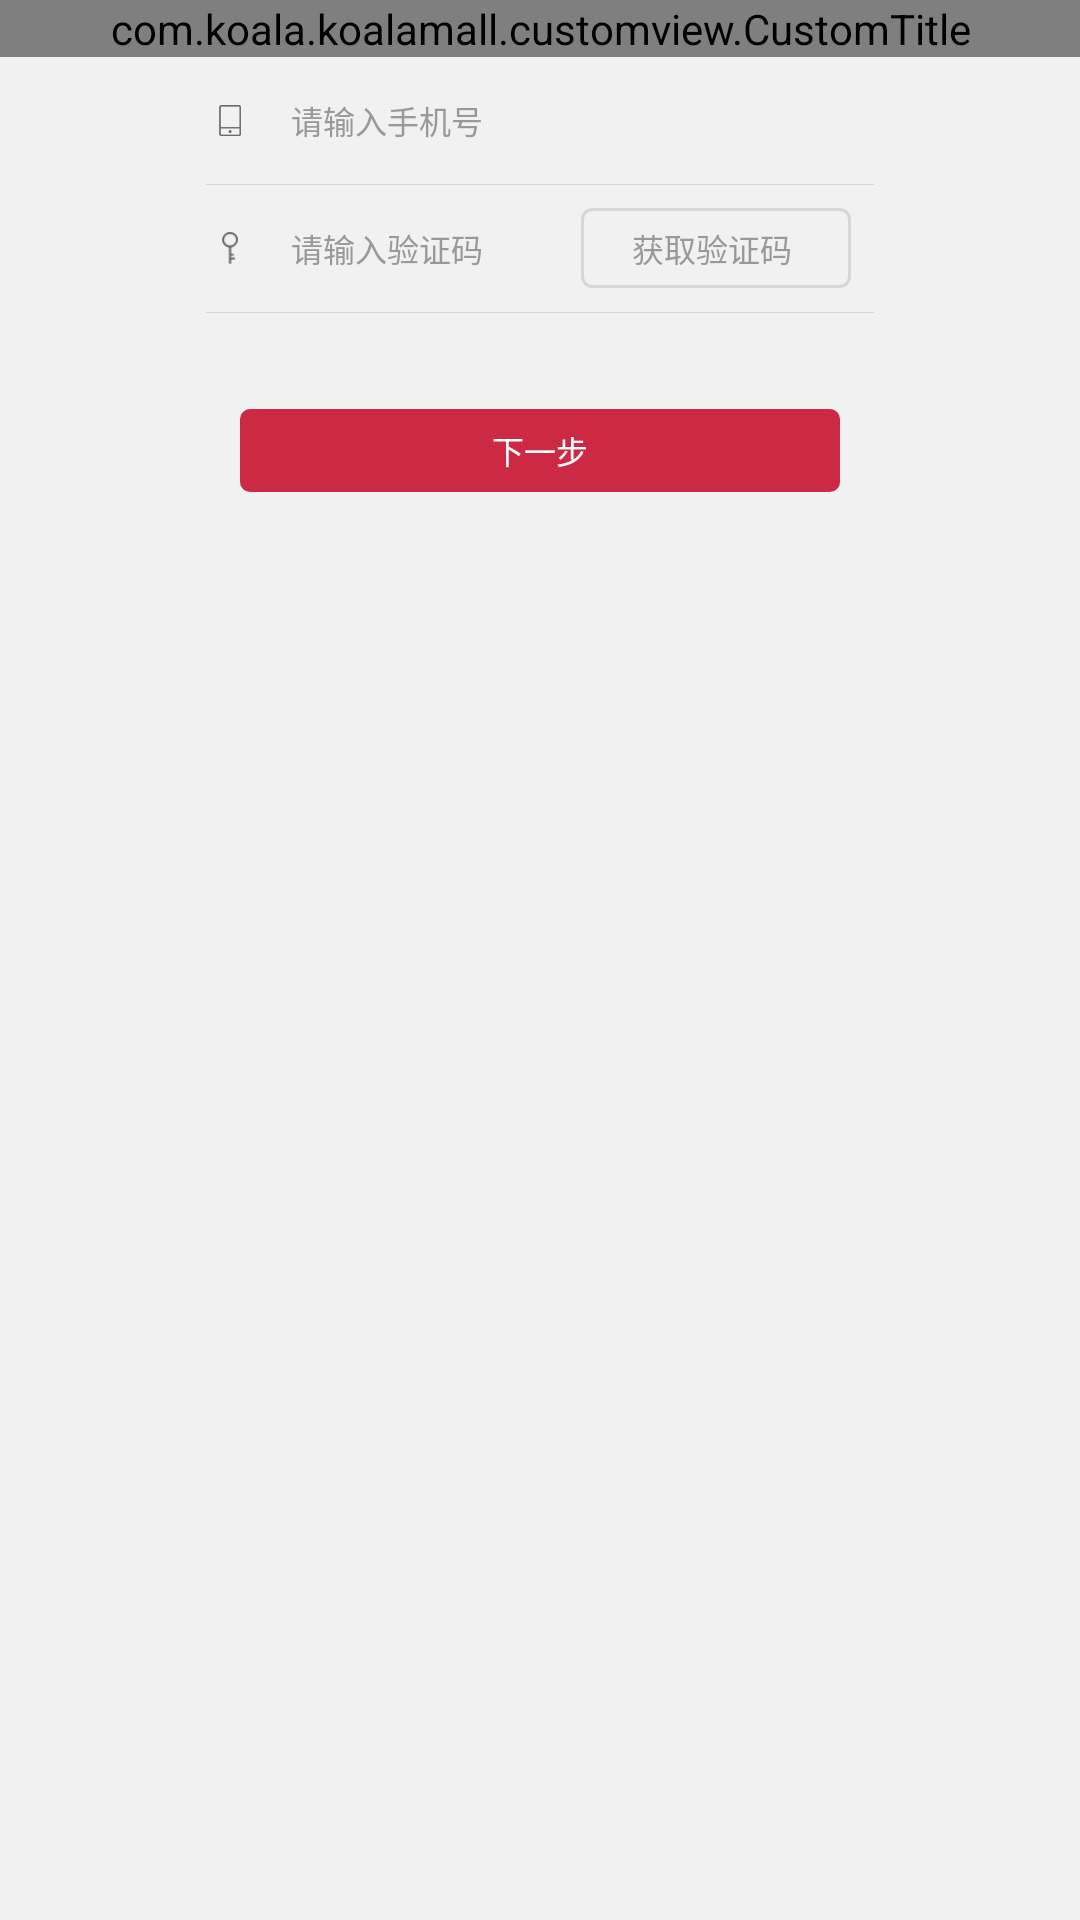

Where icons sit on this 1080x1920 app screen, as (x1, y1, x2, y2):
register code: (222, 232, 238, 264)
register phone: (219, 105, 241, 136)
